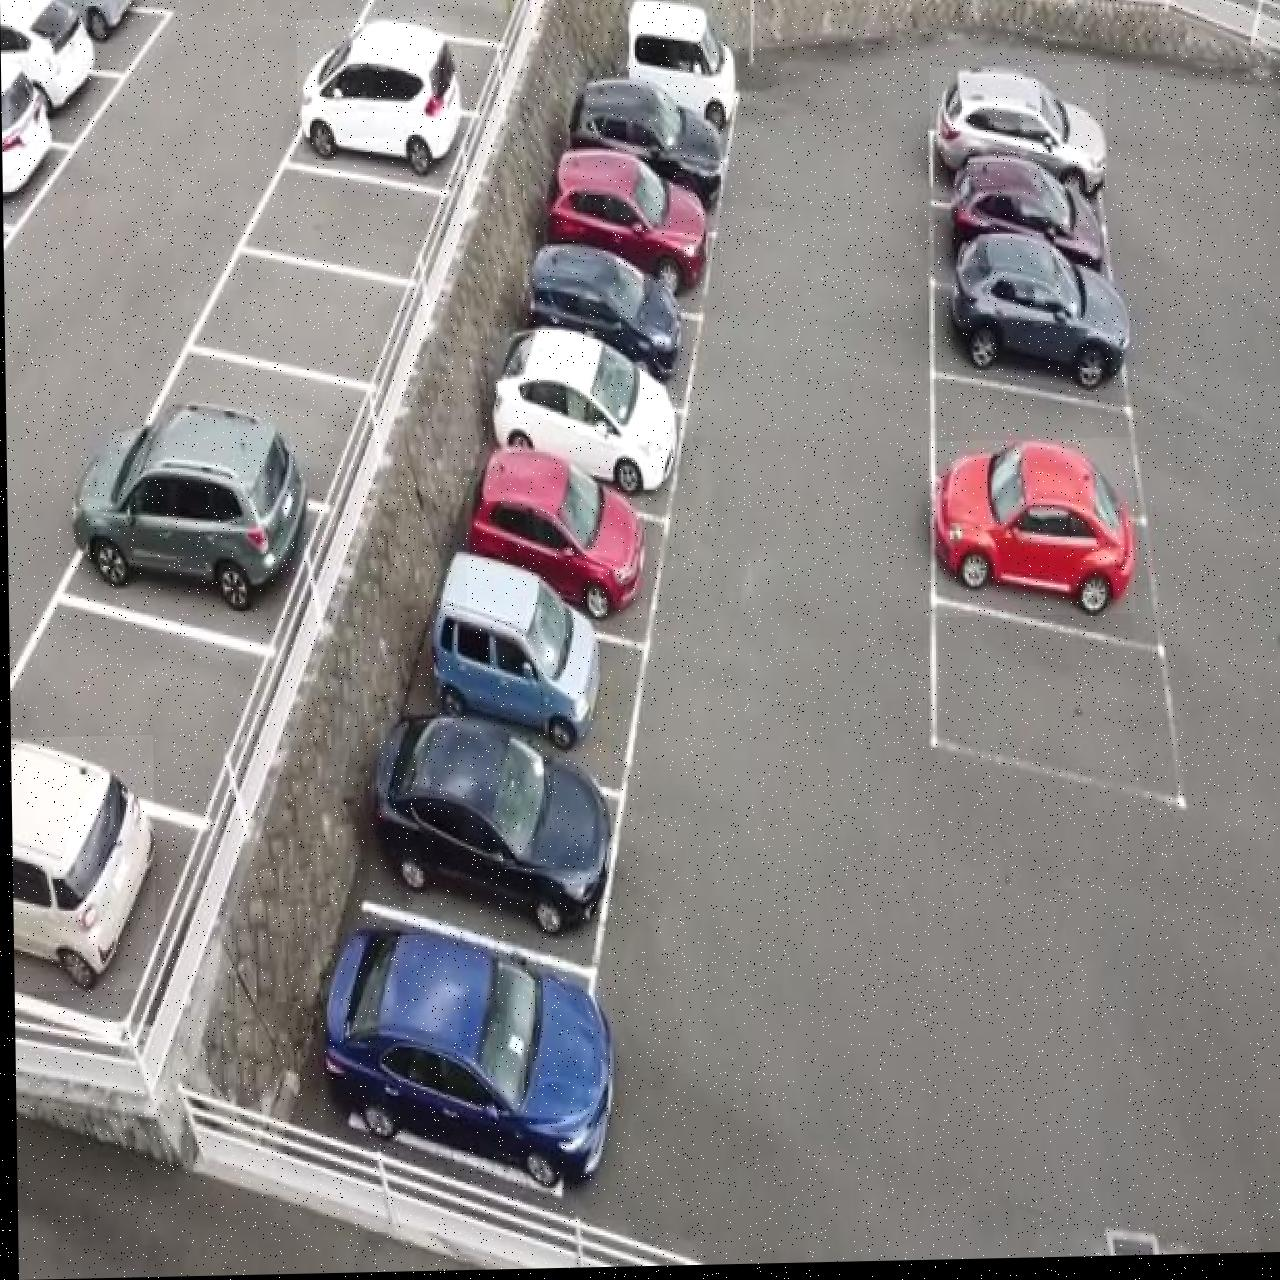car: (315, 922, 612, 1195), (364, 712, 611, 940), (67, 399, 307, 615), (9, 736, 154, 992), (927, 442, 1133, 622), (425, 550, 599, 755), (486, 326, 676, 498), (463, 445, 645, 624), (947, 232, 1131, 398), (296, 18, 462, 179), (542, 148, 708, 301), (929, 69, 1107, 202), (521, 242, 683, 387), (565, 77, 723, 210), (946, 157, 1105, 280), (622, 0, 740, 133), (0, 0, 95, 114), (1, 59, 52, 198), (46, 0, 137, 43), (0, 21, 33, 60)
